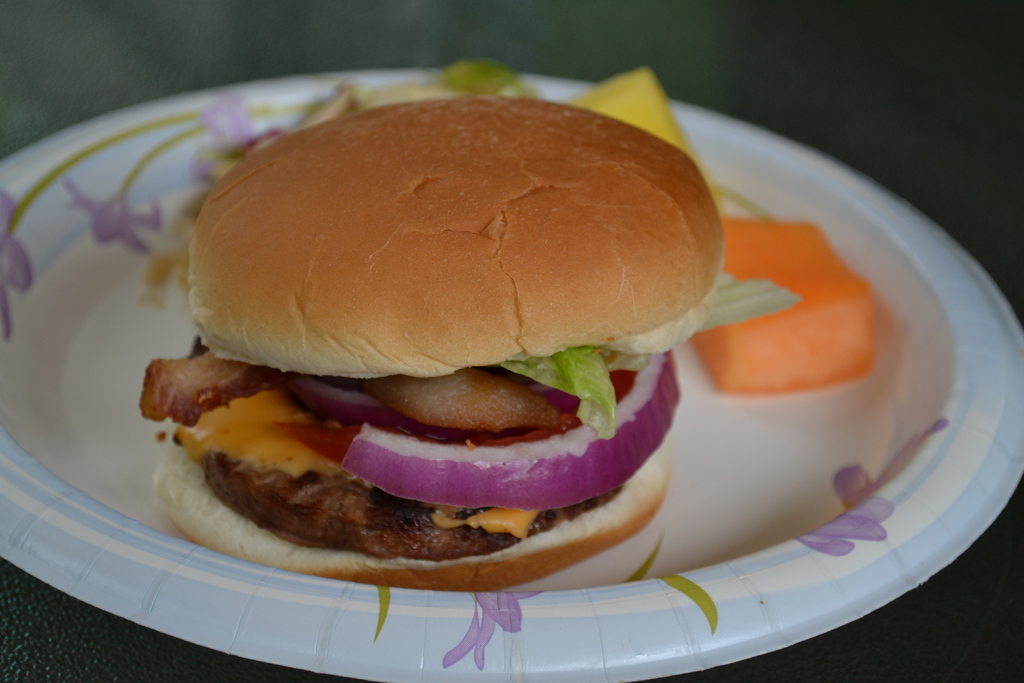Hamburger: (136, 99, 723, 583)
